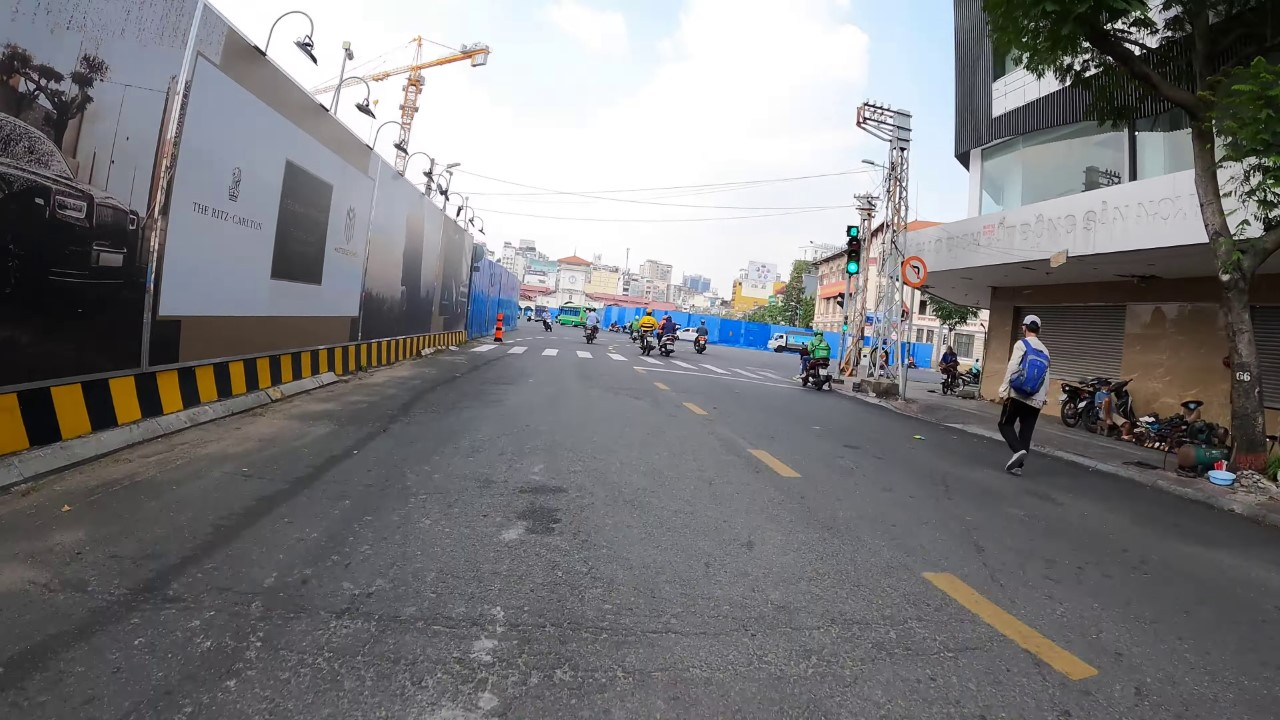cam_re_trai: (901, 253, 929, 291)
